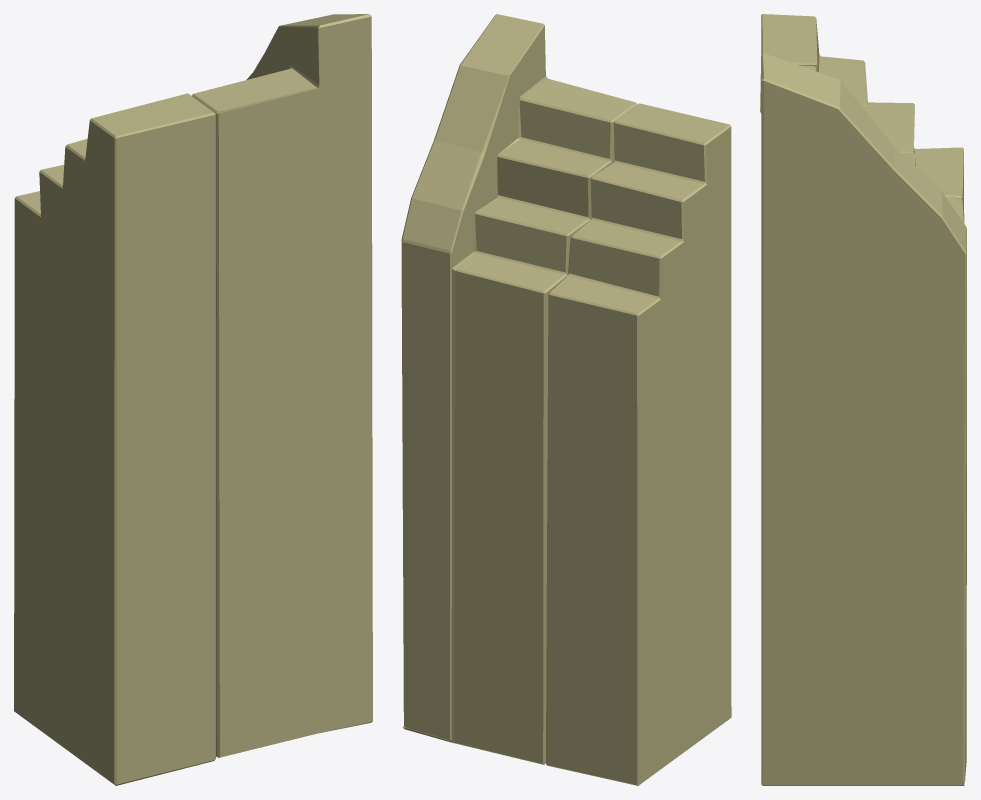
Rendered from Stairs.fbx.
3 views of the same model, side by side, from view 1: azimuth 30°, elevation 25°; view 2: azimuth 150°, elevation 25°; view 3: azimuth 270°, elevation 25° (orthographic). The views are drawn at different scales.
Visible parts, largest first — view 1: Stairs; view 2: Stairs; view 3: Stairs.
Boxes of the visible parts, x1=… form: Stairs: x1=14, y1=14, x2=372, y2=785; Stairs: x1=401, y1=14, x2=731, y2=785; Stairs: x1=760, y1=14, x2=966, y2=785.
Bounding box in the file's own units: 205 × 532 × 140.
